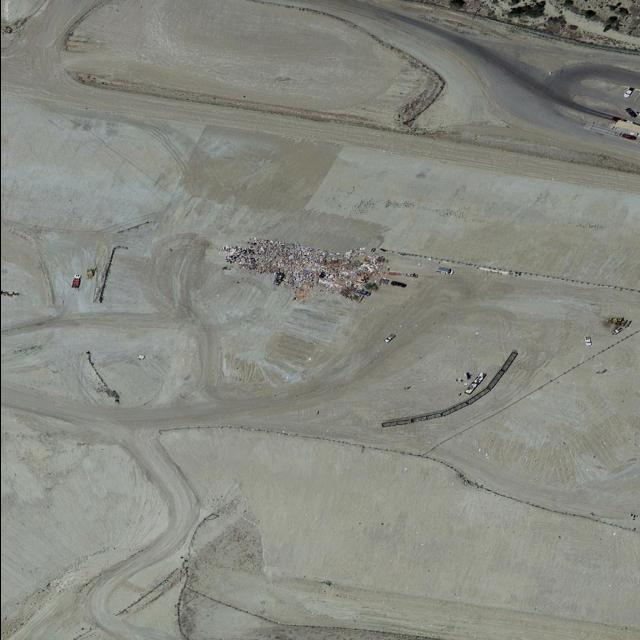dump_site: (210, 234, 413, 308)
